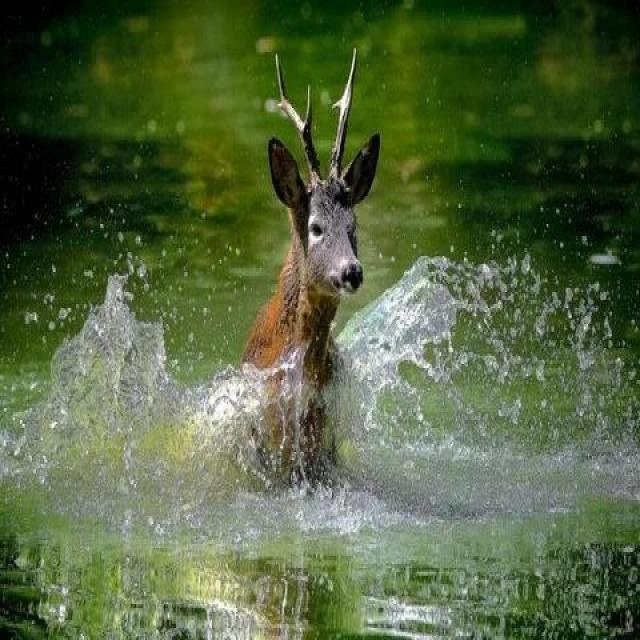deer: (169, 13, 433, 535)
